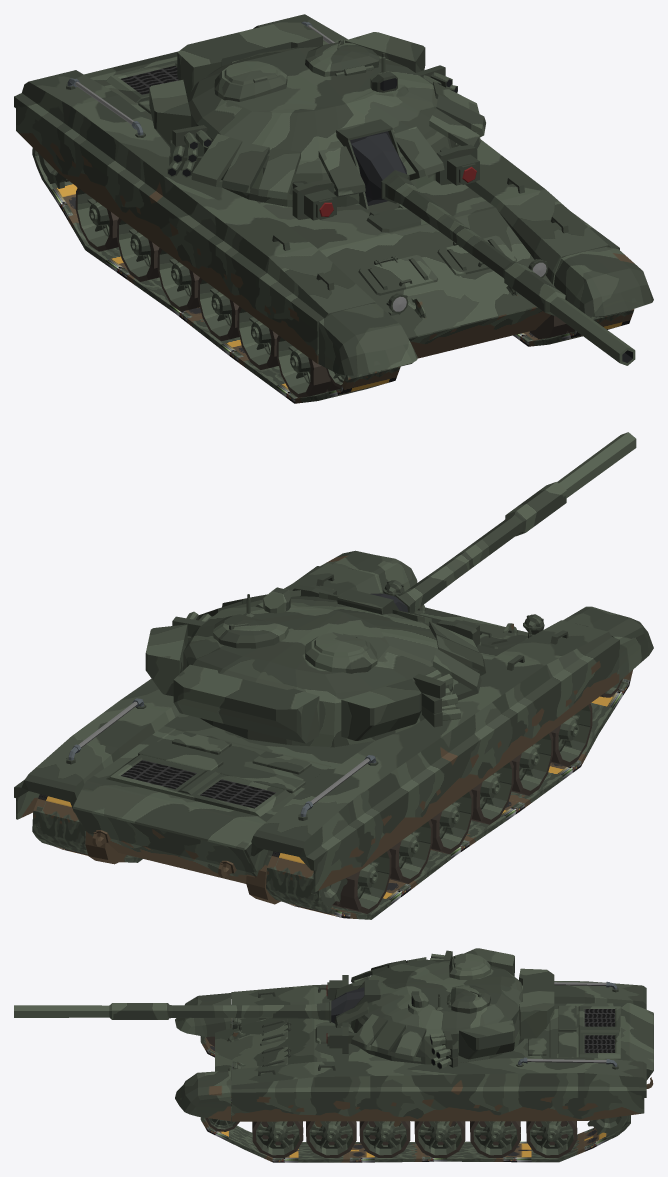
The model's file is SM_Veh_Tank_Russian_01.fbx.
The picture shows the model from 3 angles, top to bottom: view 1: azimuth 30°, elevation 25°; view 2: azimuth 150°, elevation 25°; view 3: azimuth 270°, elevation 25°; orthographic projection. The views are drawn at different scales.
Parts seen in each view (by area): view 1: SM_Veh_Tank_Russian_01, SM_Veh_Tank_Russian_01_Turret, SM_Veh_Tank_Russia_Turret_Barrel_01, SM_Veh_Tank_Russian_Track_R, SM_Veh_Tank_Russian_Track_Wheel_R_08, SM_Veh_Tank_Russian_01_Hatch_l, SM_Veh_Tank_Russian_Track_Wheel_R_06, SM_Veh_Tank_Russian_Track_Wheel_R_05, SM_Veh_Tank_Russian_Track_Wheel_R_04, SM_Veh_Tank_Russian_Track_Wheel_R_03, SM_Veh_Tank_Russian_Track_Wheel_R_02, SM_Veh_Tank_Russian_Track_L (+2 smaller); view 2: SM_Veh_Tank_Russian_01, SM_Veh_Tank_Russian_01_Turret, SM_Veh_Tank_Russian_Track_R, SM_Veh_Tank_Russia_Turret_Barrel_01, SM_Veh_Tank_Russian_Track_L, SM_Veh_Tank_Russian_Track_Wheel_R_06, SM_Veh_Tank_Russian_01_Hatch_l, SM_Veh_Tank_Russian_Track_Wheel_R_05, SM_Veh_Tank_Russian_Track_Wheel_R_04, SM_Veh_Tank_Russian_Track_Wheel_R_03, SM_Veh_Tank_Russian_Track_Wheel_R_02, SM_Veh_Tank_Russian_Track_Wheel_R_08 (+1 smaller); view 3: SM_Veh_Tank_Russian_01, SM_Veh_Tank_Russian_01_Turret, SM_Veh_Tank_Russia_Turret_Barrel_01, SM_Veh_Tank_Russian_Track_L, SM_Veh_Tank_Russian_Track_Wheel_L_06, SM_Veh_Tank_Russian_Track_Wheel_L_08, SM_Veh_Tank_Russian_Track_Wheel_L_04, SM_Veh_Tank_Russian_Track_Wheel_L_05, SM_Veh_Tank_Russian_Track_Wheel_L_03, SM_Veh_Tank_Russian_Track_Wheel_L_02, SM_Veh_Tank_Russian_01_Hatch_l, SM_Veh_Tank_Russian_Track_Wheel_L_07 (+2 smaller).
Boxes of the visible parts, x1,y1,x2,y2 form: SM_Veh_Tank_Russian_01: (14,14,653,375); SM_Veh_Tank_Russian_01_Turret: (149,22,485,220); SM_Veh_Tank_Russia_Turret_Barrel_01: (351,133,635,365); SM_Veh_Tank_Russian_Track_R: (32,148,400,403); SM_Veh_Tank_Russian_Track_Wheel_R_08: (276,335,340,397); SM_Veh_Tank_Russian_01_Hatch_l: (305,39,379,76); SM_Veh_Tank_Russian_Track_Wheel_R_06: (75,188,118,251); SM_Veh_Tank_Russian_Track_Wheel_R_05: (117,218,159,281); SM_Veh_Tank_Russian_Track_Wheel_R_04: (157,248,199,311); SM_Veh_Tank_Russian_Track_Wheel_R_03: (198,277,239,341); SM_Veh_Tank_Russian_Track_Wheel_R_02: (237,306,278,369); SM_Veh_Tank_Russian_Track_L: (513,309,634,346); SM_Veh_Tank_Russian_01: (14,550,653,904); SM_Veh_Tank_Russian_01_Turret: (145,585,485,747); SM_Veh_Tank_Russian_Track_R: (266,670,632,919); SM_Veh_Tank_Russia_Turret_Barrel_01: (370,432,636,613); SM_Veh_Tank_Russian_Track_L: (32,794,142,862); SM_Veh_Tank_Russian_Track_Wheel_R_06: (332,850,391,913); SM_Veh_Tank_Russian_01_Hatch_l: (213,614,288,648); SM_Veh_Tank_Russian_Track_Wheel_R_05: (389,820,432,883); SM_Veh_Tank_Russian_Track_Wheel_R_04: (430,790,473,854); SM_Veh_Tank_Russian_Track_Wheel_R_03: (471,760,513,824); SM_Veh_Tank_Russian_Track_Wheel_R_02: (511,732,553,795); SM_Veh_Tank_Russian_Track_Wheel_R_08: (551,703,592,766); SM_Veh_Tank_Russian_01: (175,981,653,1127); SM_Veh_Tank_Russian_01_Turret: (326,948,554,1069); SM_Veh_Tank_Russia_Turret_Barrel_01: (14,987,364,1023); SM_Veh_Tank_Russian_Track_L: (200,1096,630,1162); SM_Veh_Tank_Russian_Track_Wheel_L_06: (526,1121,577,1157); SM_Veh_Tank_Russian_Track_Wheel_L_08: (252,1121,303,1157); SM_Veh_Tank_Russian_Track_Wheel_L_04: (414,1121,465,1157); SM_Veh_Tank_Russian_Track_Wheel_L_05: (470,1121,520,1157); SM_Veh_Tank_Russian_Track_Wheel_L_03: (359,1121,410,1157); SM_Veh_Tank_Russian_Track_Wheel_L_02: (306,1121,356,1157); SM_Veh_Tank_Russian_01_Hatch_l: (446,985,490,1013); SM_Veh_Tank_Russian_Track_Wheel_L_07: (587,1116,626,1135).
Bounding box in the file's own units: 433 × 279 × 1130.
